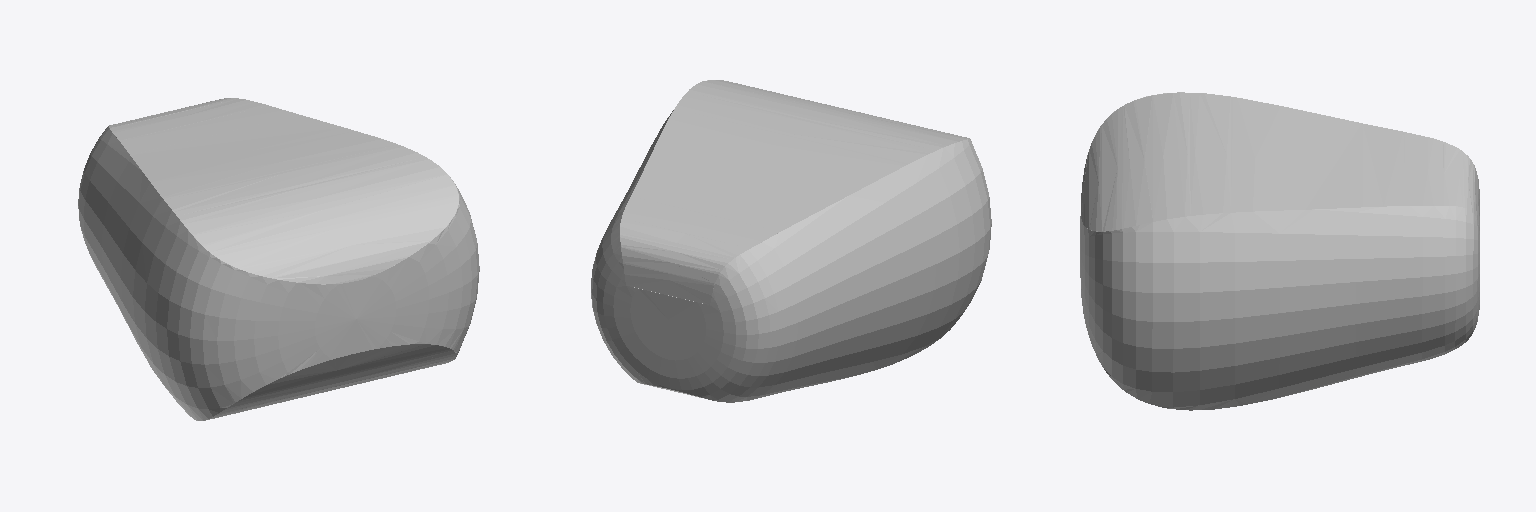
The model's file is chest_ascii.obj.
3 renders of one model, left to right at view 1: azimuth 30°, elevation 25°; view 2: azimuth 150°, elevation 25°; view 3: azimuth 270°, elevation 25°, orthographic.
Visible parts, largest first — view 1: Object__0; view 2: Object__0; view 3: Object__0.
Part boxes in pixels (x1,y1,x2,y2): Object__0: (78, 98, 479, 420); Object__0: (591, 80, 991, 402); Object__0: (1080, 92, 1479, 410).
Size of the model in its own units: 0.3101 by 0.1991 by 0.3501.